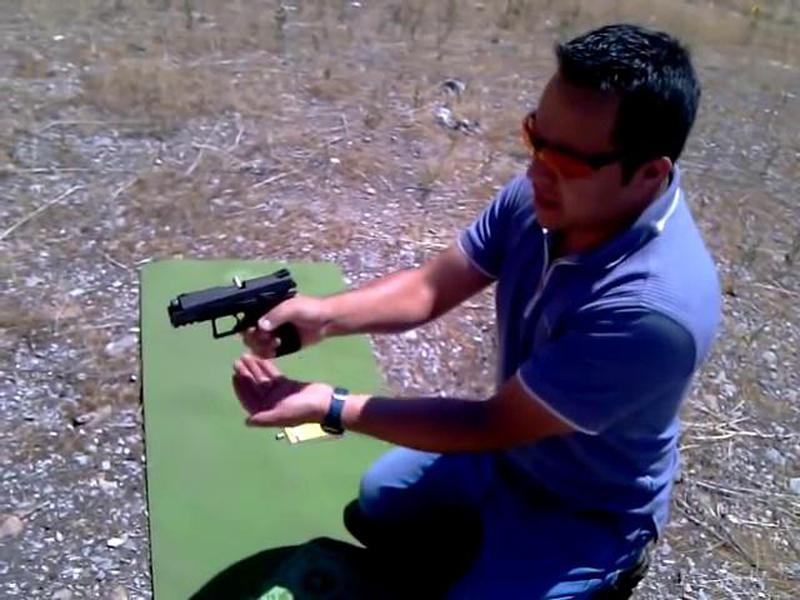Pistola: (163, 264, 312, 362)
